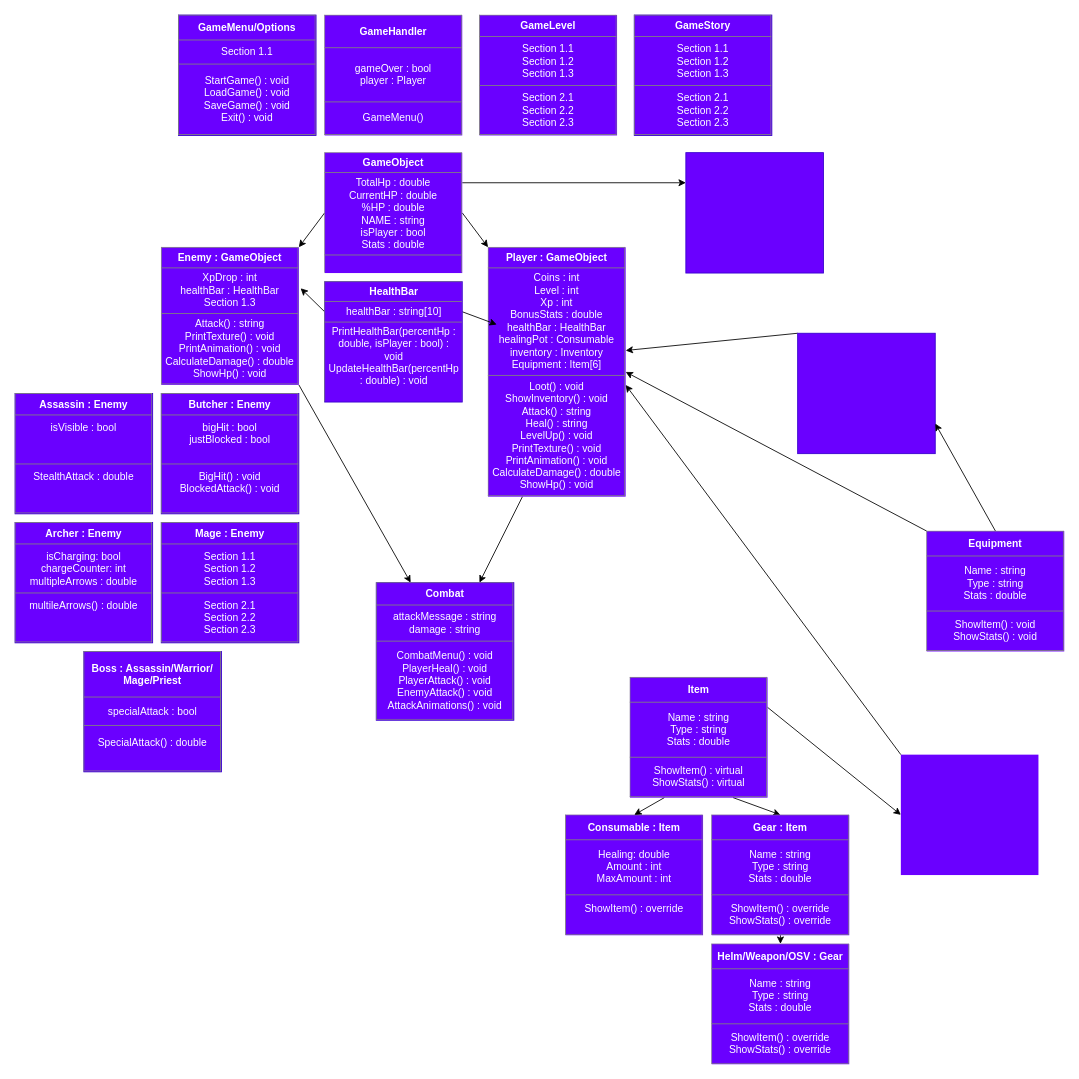
Image size: 1079x1079. Some labels were removed from this diagram. The centre of each missing label's shape, as x and y in pixels:
"Chest Gold : int ChestLoot : List<Item> PrintChest() : void" goes at [969,814].
"Inventory inventoryList : List<Item> Equip() : void Section 2.2 Section 2.3" goes at [866,393].
"Merchant Section 1.1 Section 1.2 Section 1.3 Section 2.1 Section 2.2 Section 2.3" goes at [754,212].
